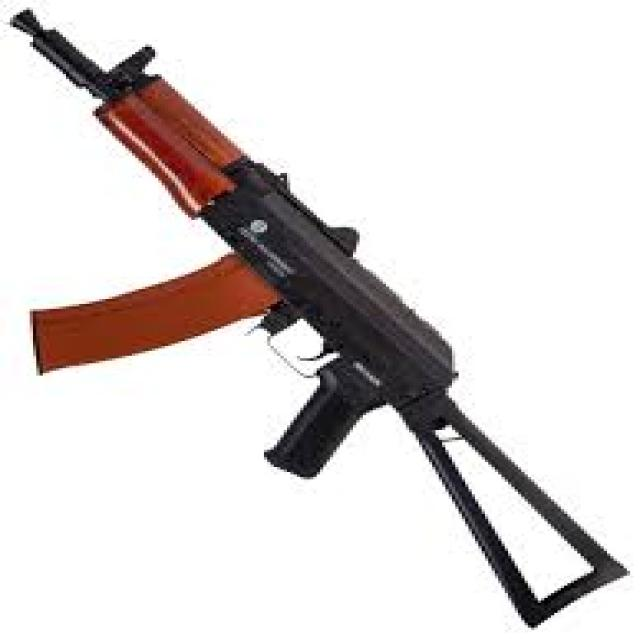rifle: (4, 6, 640, 631)
